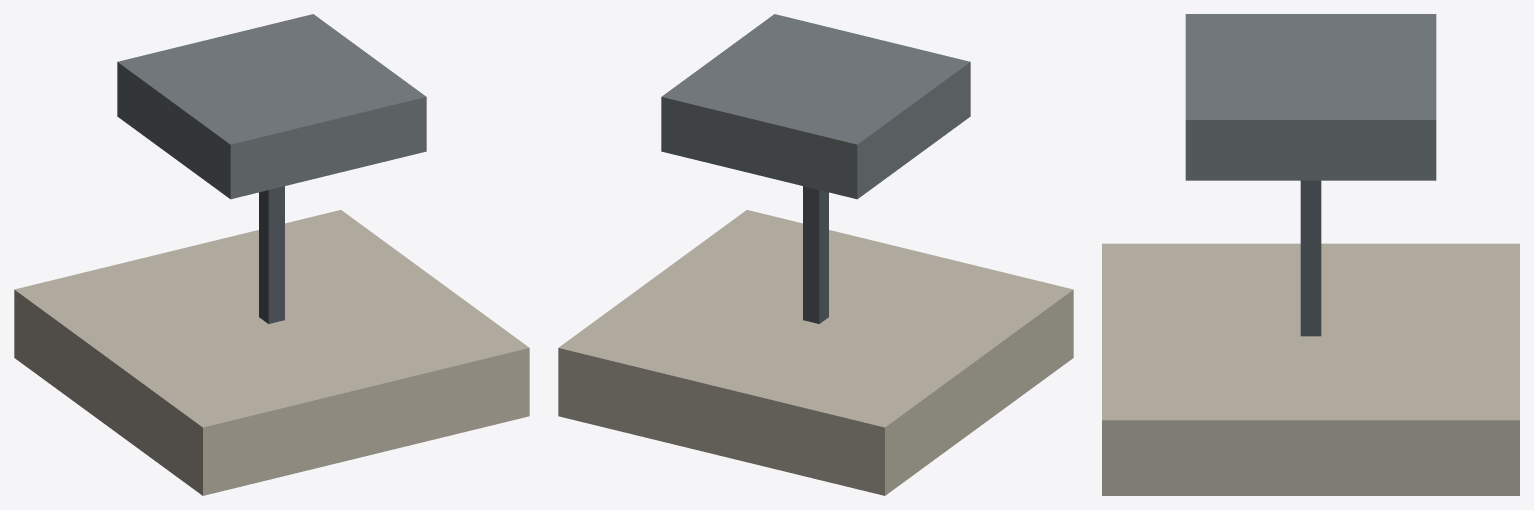
Rendered from ceiling_lamp_apartment.glb.
3 renders of one model, left to right at view 1: azimuth 30°, elevation 25°; view 2: azimuth 150°, elevation 25°; view 3: azimuth 270°, elevation 25°, orthographic. The views are drawn at different scales.
Visible parts, largest first — view 1: body; view 2: body; view 3: body.
Part boxes in pixels (bbox=[...]): body: bbox=[14, 14, 529, 495]; body: bbox=[558, 14, 1073, 495]; body: bbox=[1102, 14, 1519, 495].
Bounding box in the file's own units: 0.5 × 0.45 × 0.5.
